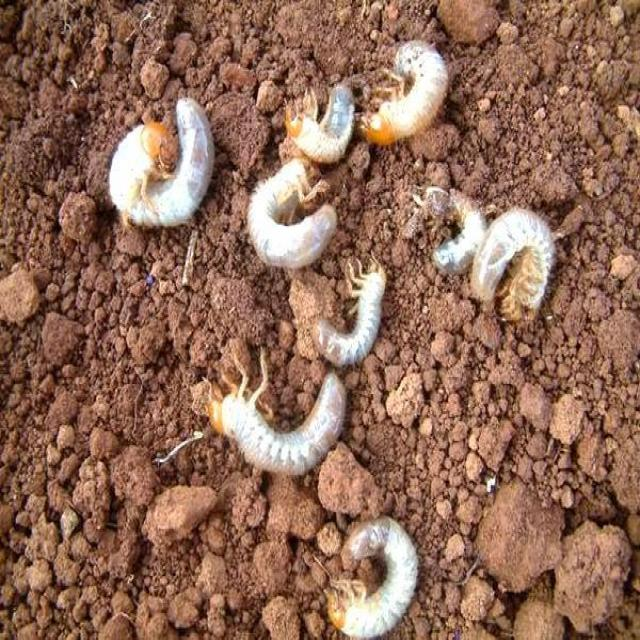Grub-Adult-: (193, 356, 366, 481), (104, 80, 226, 227), (308, 512, 420, 636), (239, 150, 343, 275), (466, 205, 563, 324), (355, 37, 454, 149), (308, 250, 393, 370), (424, 160, 487, 286), (284, 80, 358, 166)
